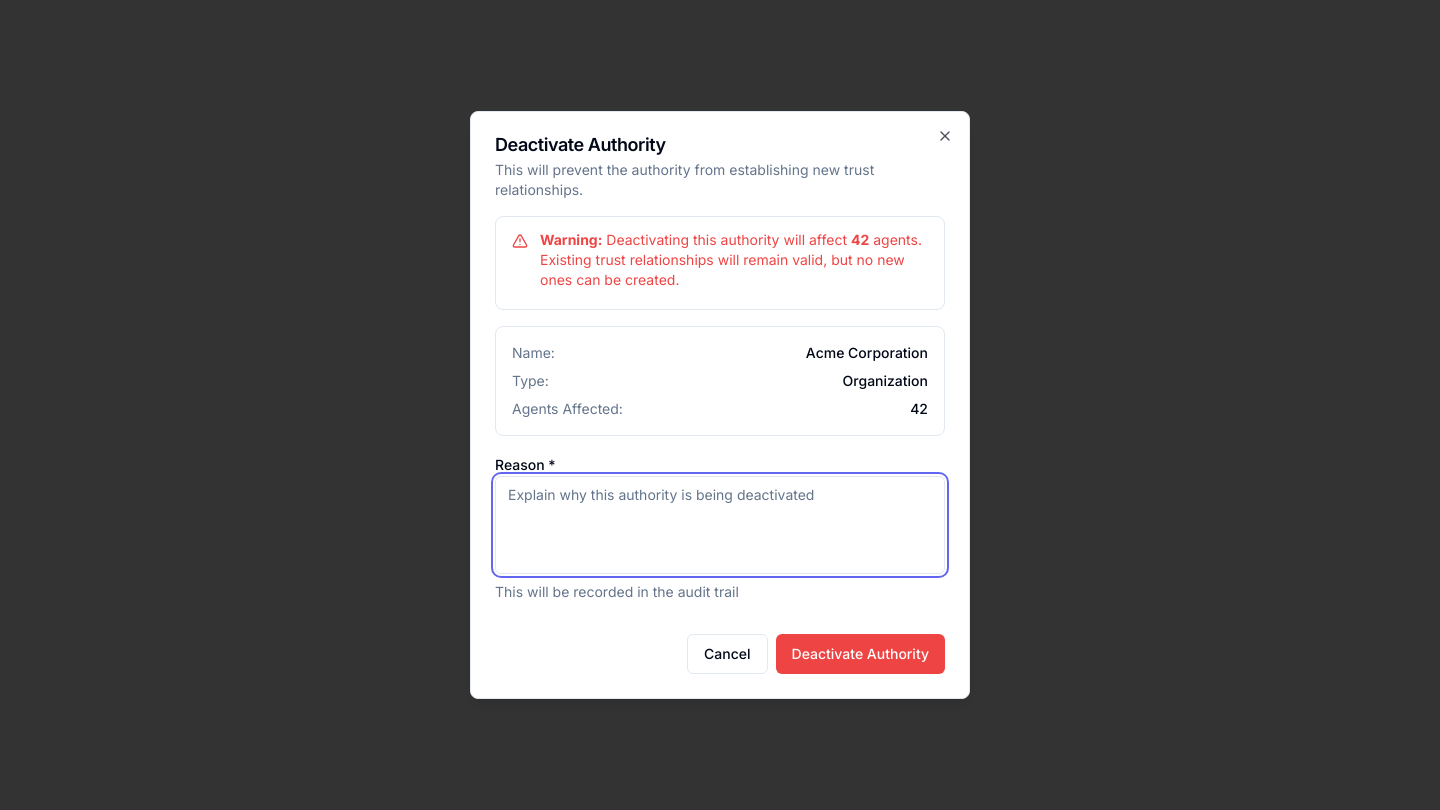
Test: DeactivateAuthorityDialog › requires reason input
The width and height of the screenshot is (1440, 810).
Click the button "Deactivate Authority": (860, 654) left=776, top=634, right=945, bottom=674
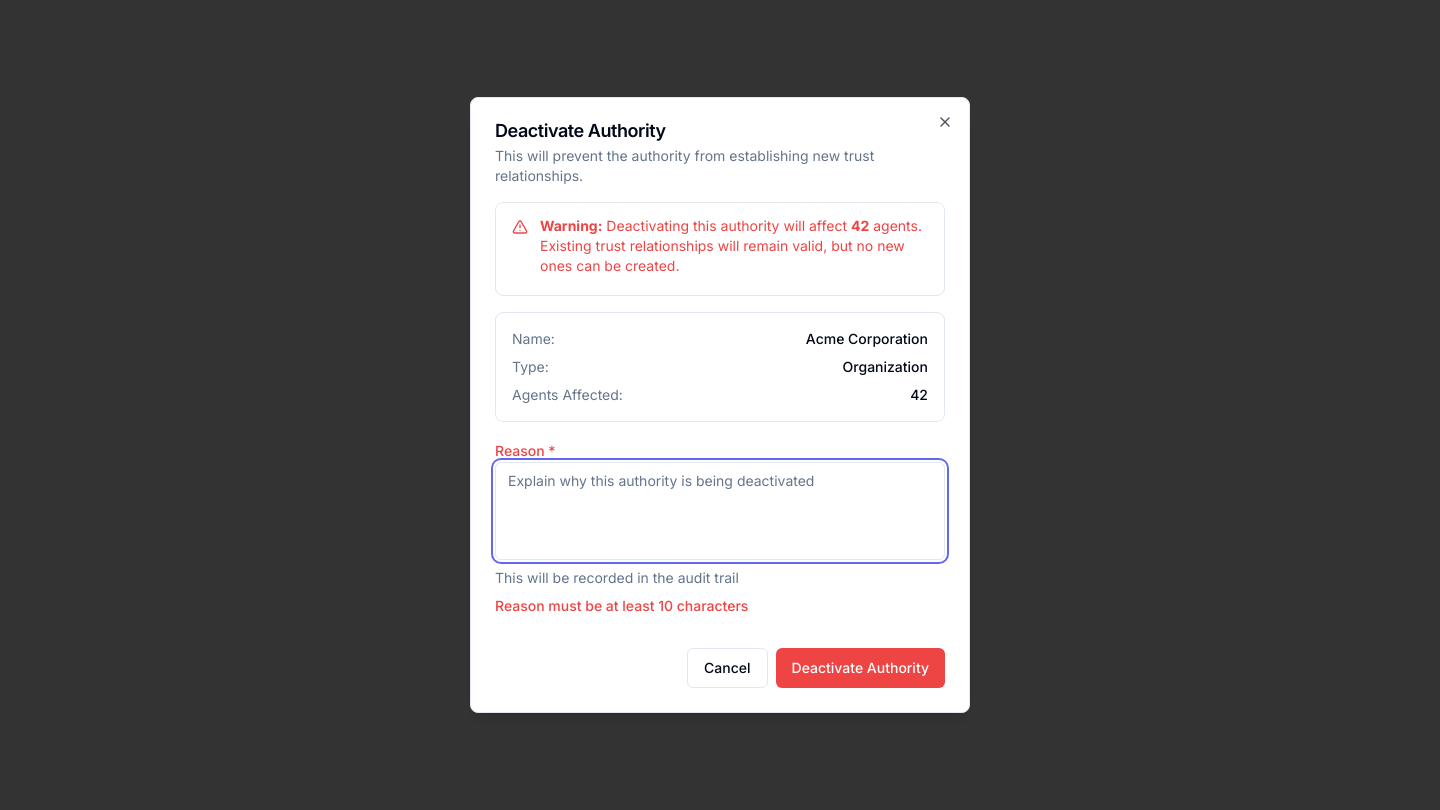
Expected: the text "Reason must be at least 10 characters" is shown, left=495, top=597, right=748, bottom=614
